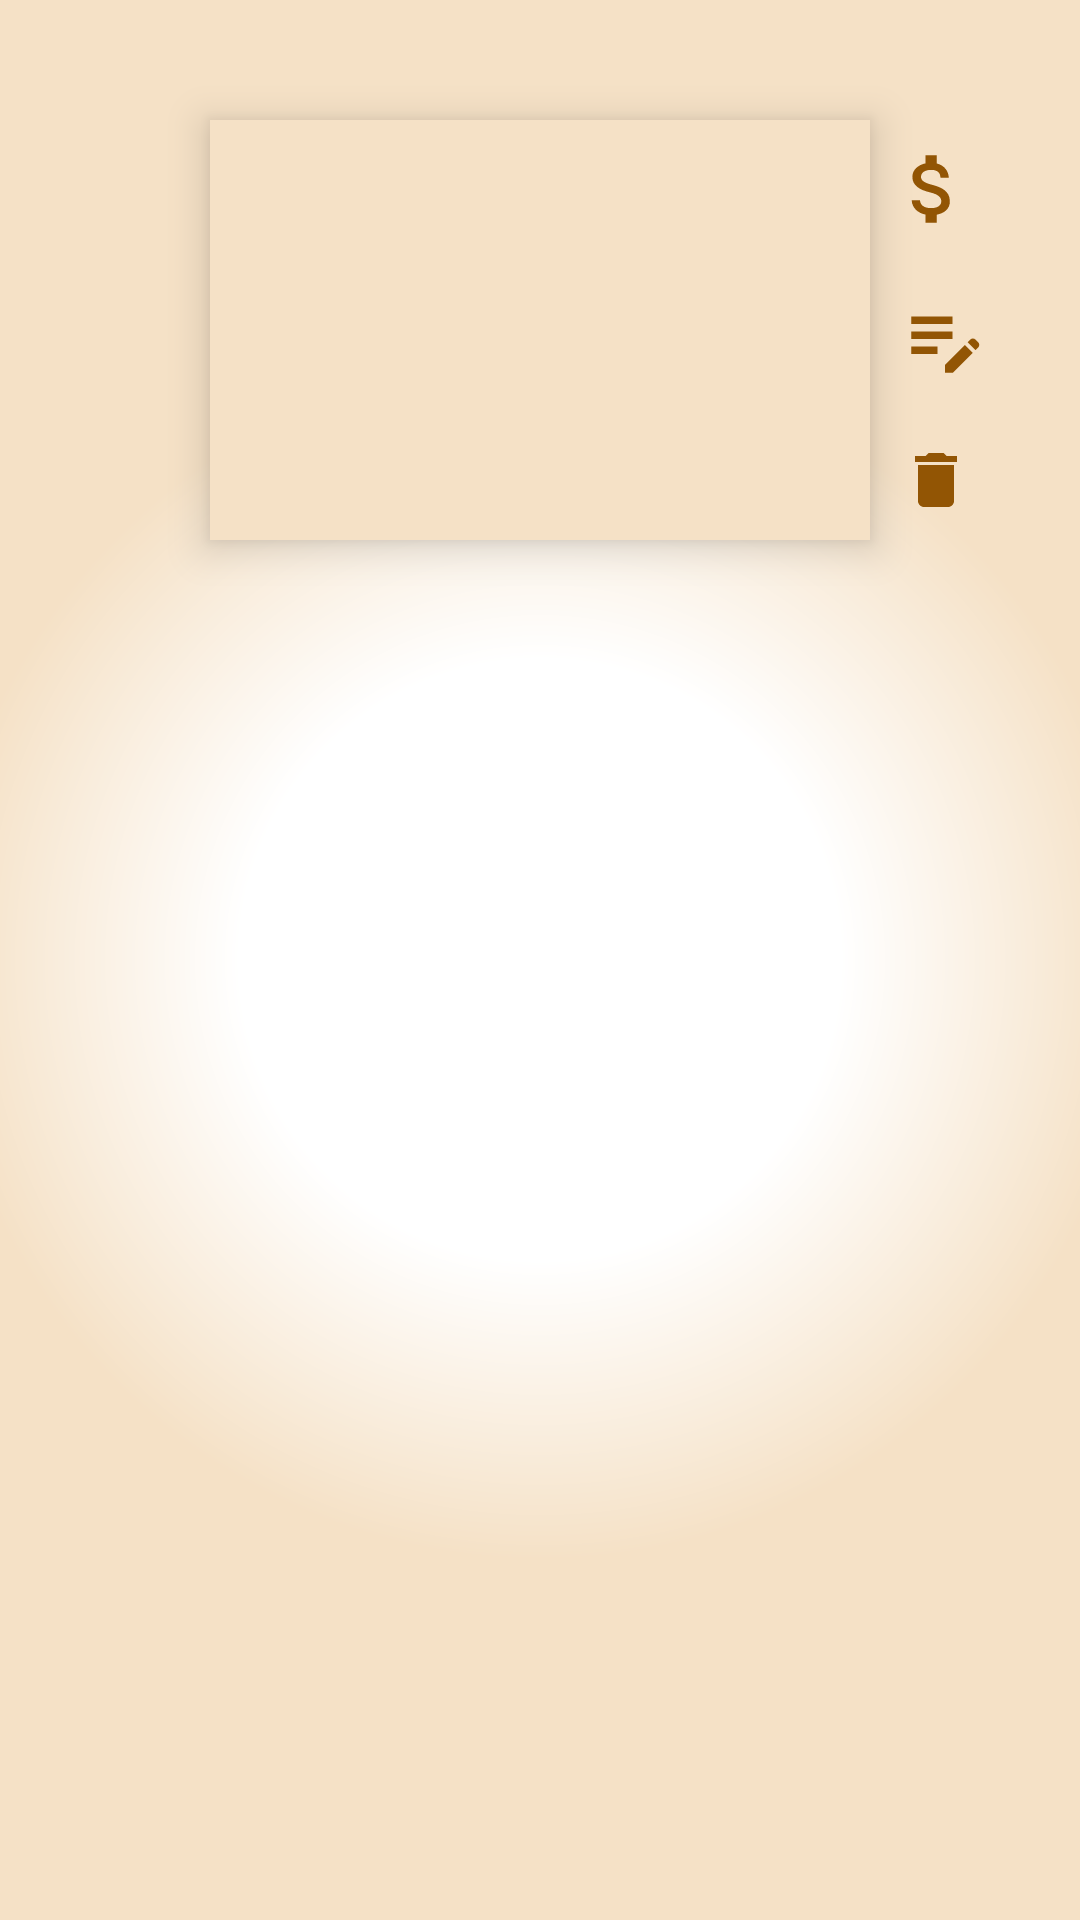

Where icons sit on this 1080 x 1920 app screen, as (x1, y1, x2, y2):
edit: (911, 316, 980, 373)
load money: (911, 155, 950, 223)
remove all favorites: (915, 453, 957, 507)
